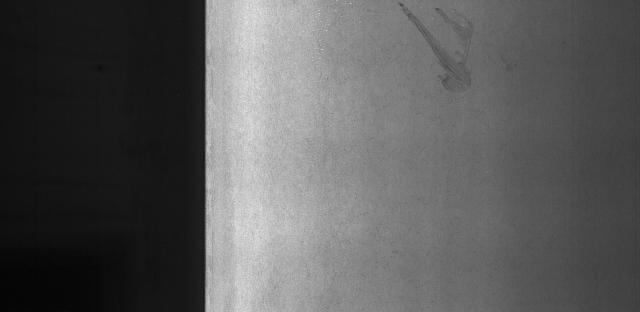water_spot: (387, 2, 522, 102)
